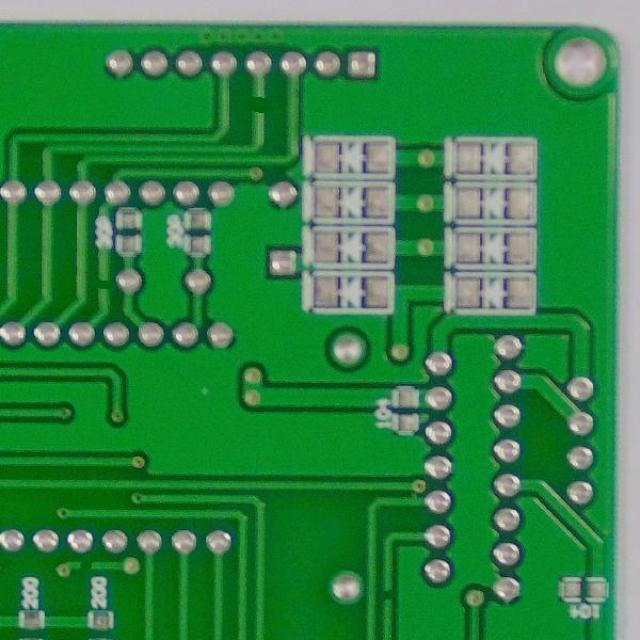Open_Circuit: (243, 83, 275, 125), (92, 268, 116, 303), (378, 580, 400, 609), (72, 555, 102, 574)
